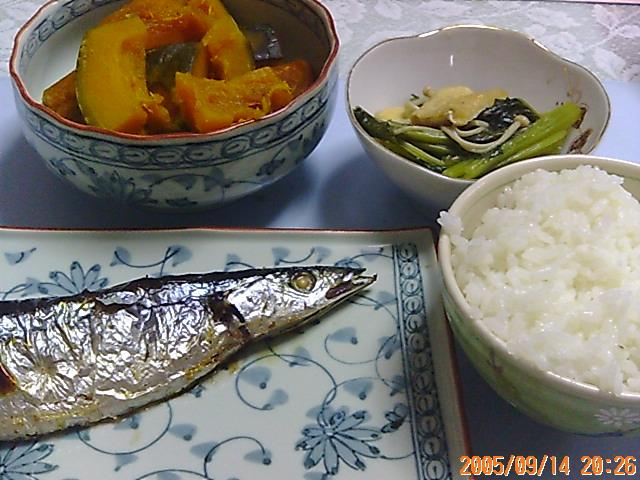rice: (449, 165, 639, 396)
